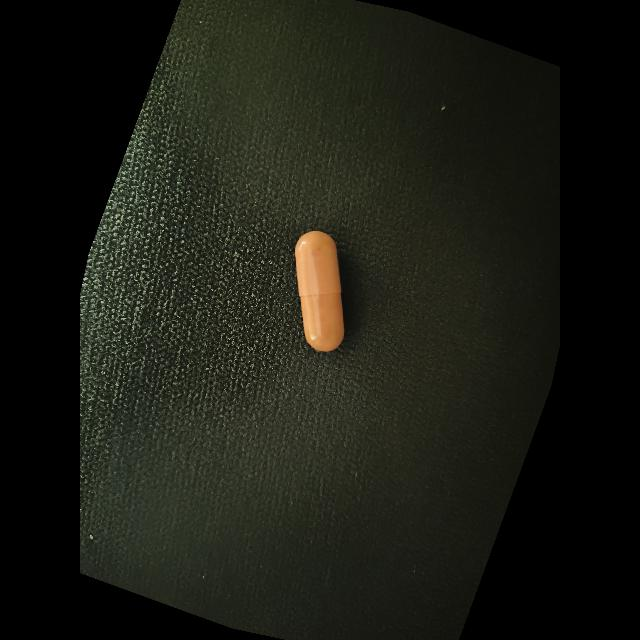Intact Capsule: (295, 231, 344, 352)
